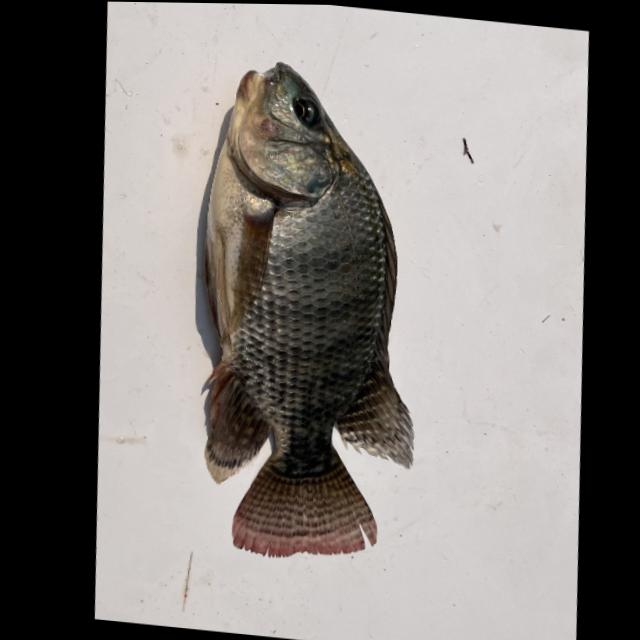Tilapia: (159, 53, 458, 574)
